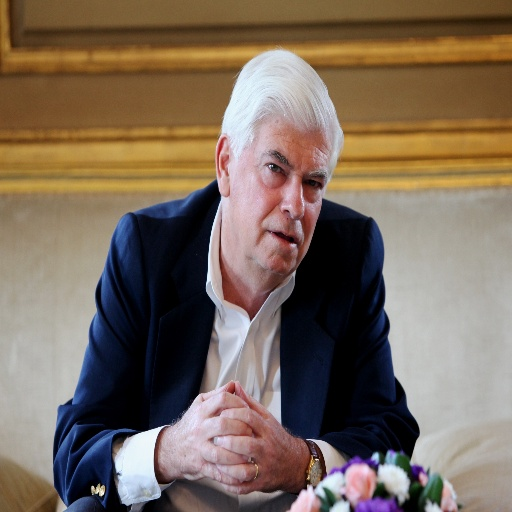hand: (213, 379, 298, 491)
